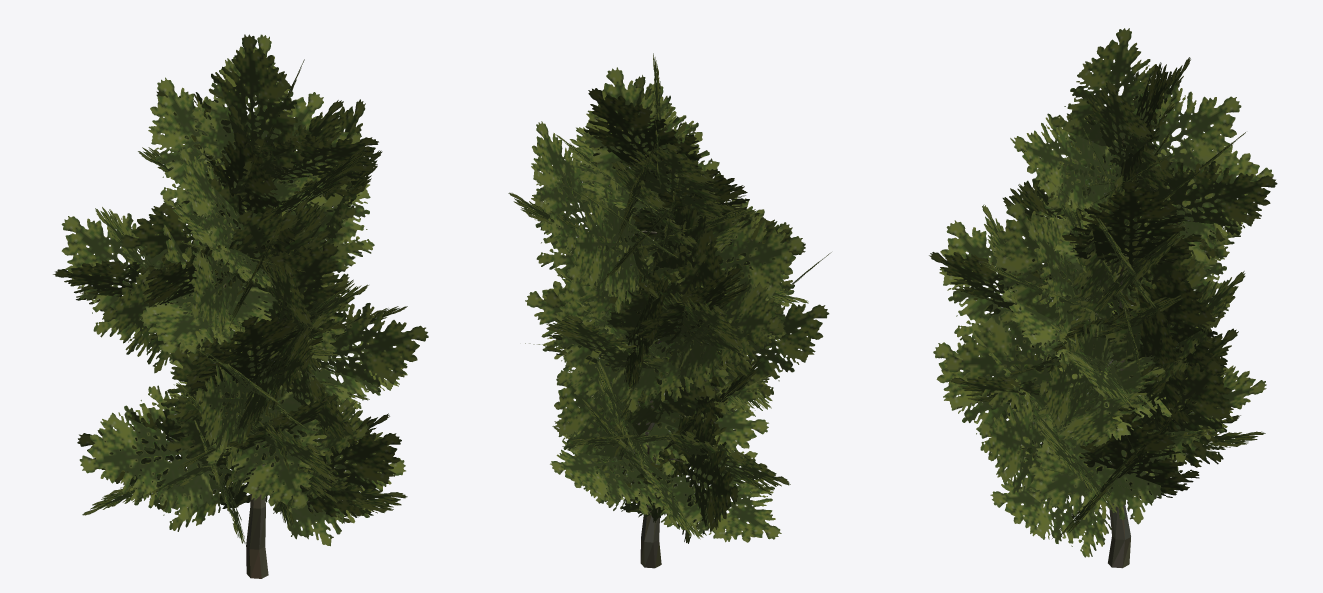
Rendered from laubbaum_04.glb.
3 renders of one model, left to right at view 1: azimuth 30°, elevation 25°; view 2: azimuth 150°, elevation 25°; view 3: azimuth 270°, elevation 25°, orthographic. The views are drawn at different scales.
Visible parts, largest first — view 1: laub, rinde; view 2: laub, rinde; view 3: laub, rinde.
Part boxes in pixels (x1,y1,x2,y2): laub: (53, 34, 428, 546); rinde: (223, 284, 286, 578); laub: (508, 53, 831, 543); rinde: (626, 230, 690, 568); laub: (929, 28, 1277, 557); rinde: (1095, 135, 1130, 568).
Size of the model in its own units: 4.86 by 7.2 by 5.02.
2 materials, 1 textured.
